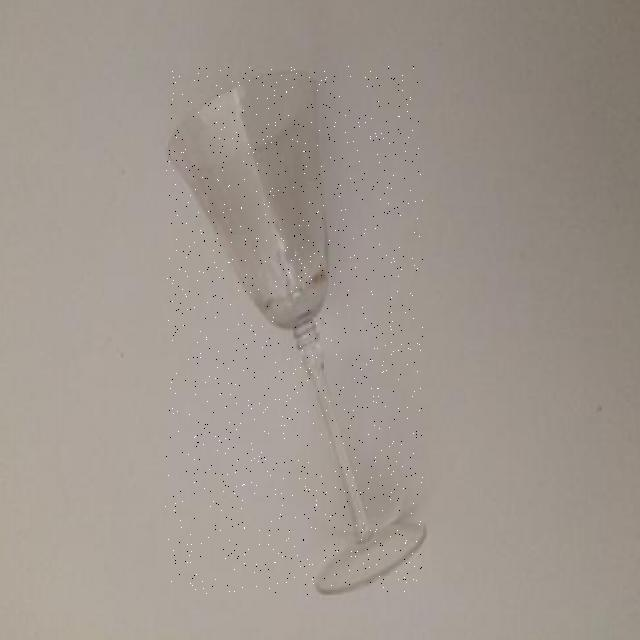glass: (166, 66, 423, 594)
